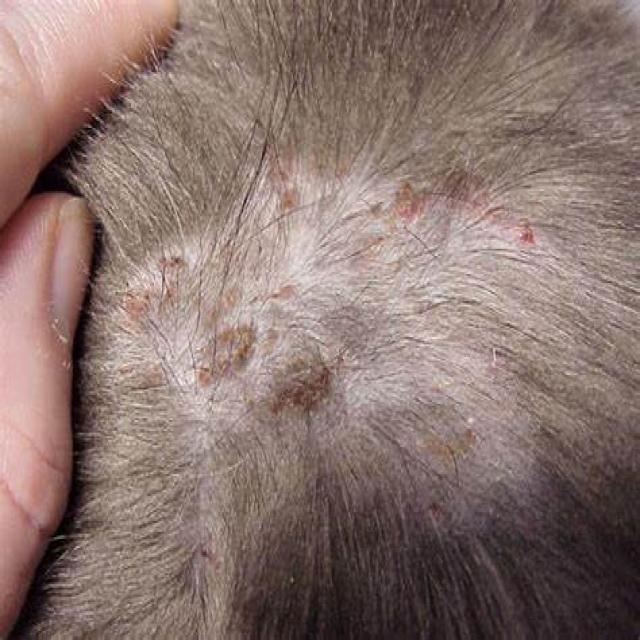di ung bo chet: (102, 135, 602, 564)
